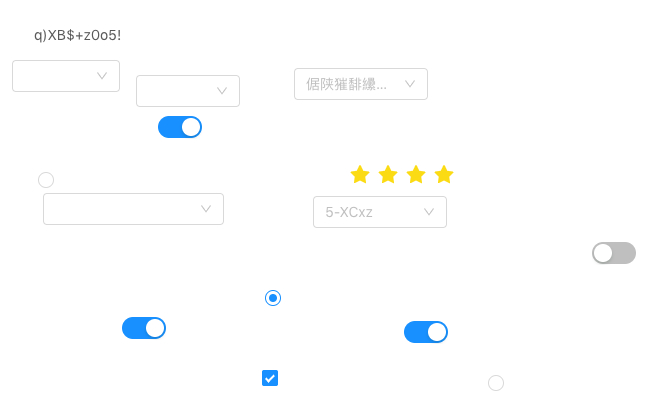Checkbox: (262, 367, 278, 388)
Radio: (488, 372, 504, 392), (38, 169, 54, 189), (265, 287, 281, 307)
Rate: (350, 158, 470, 190)
Select: (43, 193, 224, 225), (313, 196, 447, 228), (294, 68, 428, 100), (12, 60, 120, 92), (136, 75, 240, 107)
Switch: (404, 320, 448, 344), (158, 115, 202, 139), (592, 241, 636, 265), (122, 316, 166, 340)
Text: (34, 24, 122, 50)
